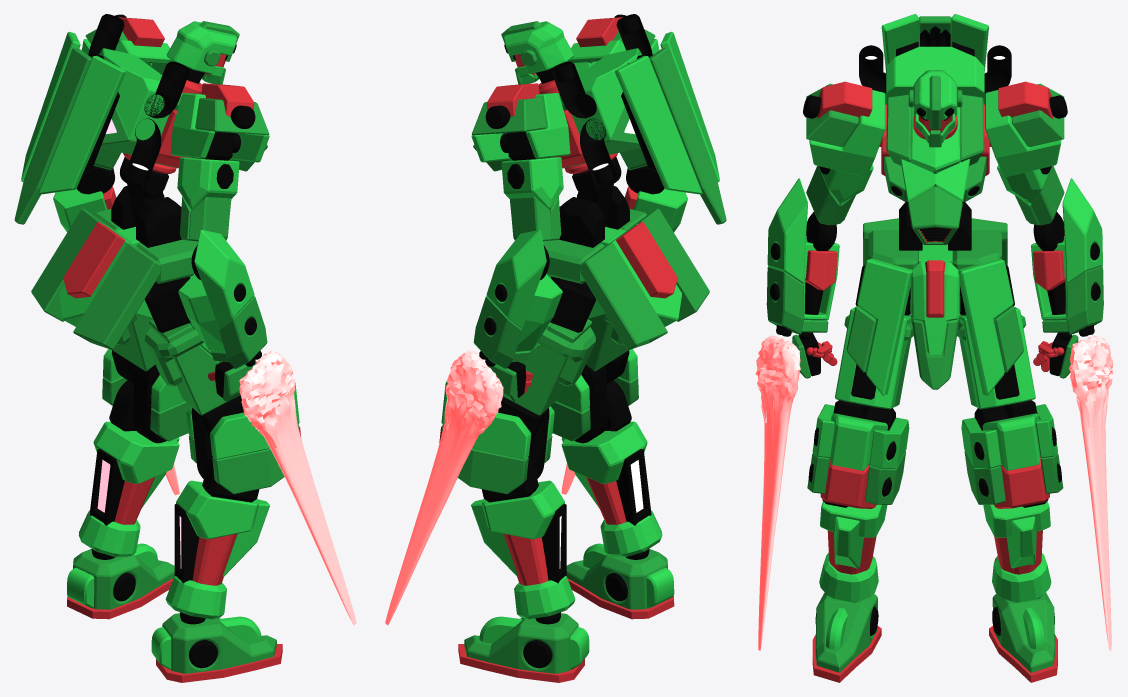
Rendered from mech1.glb.
3 views of the same model, side by side, from view 1: azimuth 30°, elevation 25°; view 2: azimuth 150°, elevation 25°; view 3: azimuth 270°, elevation 25° (orthographic).
Parts seen in each view (by area): view 1: Plane.252_751, Plane.287_703, Plane.280_898, Plane.273_859, Plane.256_702, Cube.638_753, Plane.276_804, Cube.704_828, Plane.286_822, Cube.674_865, Cube.680_775, Cube.668_885 (+51 smaller); view 2: Plane.257_655, Plane.288_704, Plane.265_895, Plane.286_822, Plane.256_702, Cube.693_654, Cube.674_865, Plane.273_859, Plane.276_804, Cube.704_828, Cube.694_678, Cube.701_848 (+51 smaller); view 3: Plane.252_751, Plane.257_655, Plane.278_815, Plane.264_853, Plane.276_804, Plane.286_822, Plane.273_859, Cube.680_775, Cube.694_678, Cube.693_654, Cube.638_753, Cube.649_891 (+68 smaller).
Boxes of the visible parts, left/top/right/bottom form: Plane.252_751: left=239, top=350, right=356, bottom=625; Plane.287_703: left=38, top=55, right=126, bottom=194; Plane.280_898: left=73, top=243, right=160, bottom=349; Plane.273_859: left=162, top=613, right=276, bottom=673; Plane.256_702: left=14, top=47, right=91, bottom=224; Cube.638_753: left=194, top=230, right=254, bottom=328; Plane.276_804: left=99, top=48, right=169, bottom=141; Cube.704_828: left=93, top=421, right=179, bottom=484; Plane.286_822: left=73, top=549, right=174, bottom=609; Cube.674_865: left=176, top=480, right=258, bottom=539; Cube.680_775: left=170, top=93, right=269, bottom=162; Cube.668_885: left=149, top=319, right=232, bottom=415; Plane.257_655: left=385, top=350, right=503, bottom=625; Plane.288_704: left=615, top=55, right=702, bottom=194; Plane.265_895: left=580, top=243, right=667, bottom=349; Plane.286_822: left=464, top=613, right=578, bottom=673; Plane.256_702: left=649, top=47, right=726, bottom=224; Cube.693_654: left=486, top=230, right=546, bottom=328; Cube.674_865: left=561, top=421, right=647, bottom=484; Plane.273_859: left=566, top=549, right=667, bottom=609; Plane.276_804: left=571, top=48, right=642, bottom=141; Cube.704_828: left=482, top=480, right=564, bottom=539; Cube.694_678: left=471, top=93, right=570, bottom=162; Cube.701_848: left=510, top=319, right=591, bottom=415; Plane.252_751: left=755, top=335, right=800, bottom=650; Plane.257_655: left=1069, top=336, right=1113, bottom=650; Plane.278_815: left=958, top=258, right=1013, bottom=395; Plane.264_853: left=857, top=258, right=912, bottom=395; Plane.276_804: left=886, top=46, right=984, bottom=104; Plane.286_822: left=992, top=592, right=1054, bottom=672; Plane.273_859: left=815, top=592, right=877, bottom=672; Cube.680_775: left=809, top=90, right=885, bottom=177; Cube.694_678: left=985, top=90, right=1061, bottom=177; Cube.693_654: left=1062, top=178, right=1102, bottom=283; Cube.638_753: left=767, top=178, right=807, bottom=283; Cube.649_891: left=910, top=261, right=960, bottom=354.
Size of the model in its own units: 6.22 by 14.23 by 7.74.
